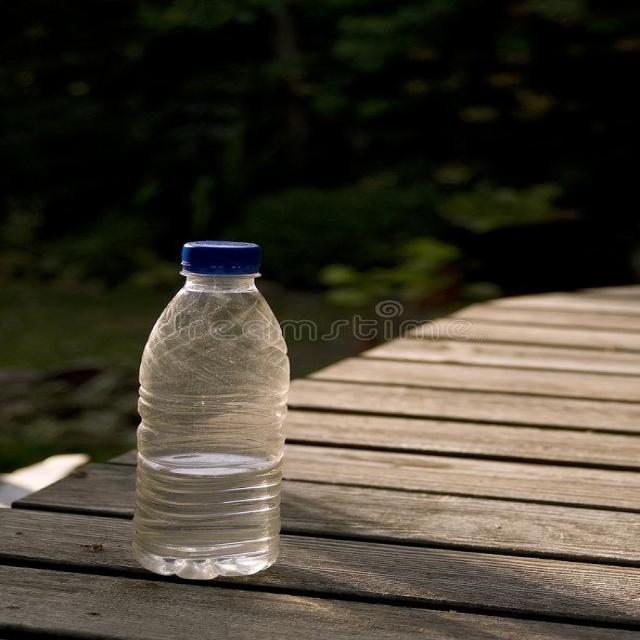bottle: (114, 226, 294, 590)
